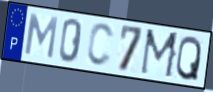0: (58, 17, 84, 64)
7: (118, 23, 145, 74)
C: (85, 22, 115, 69)
M: (138, 27, 181, 81), (22, 12, 60, 61)
Q: (174, 35, 203, 83)
